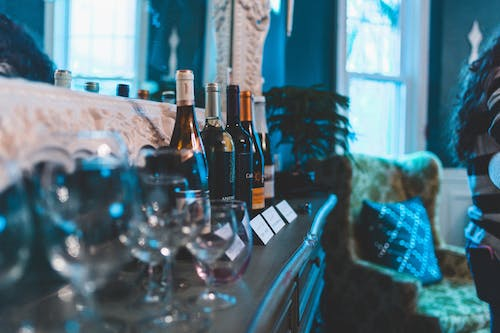alcohol: (168, 69, 211, 262), (200, 83, 237, 232), (193, 201, 254, 287), (225, 84, 253, 220), (239, 89, 265, 219), (254, 95, 275, 210)
